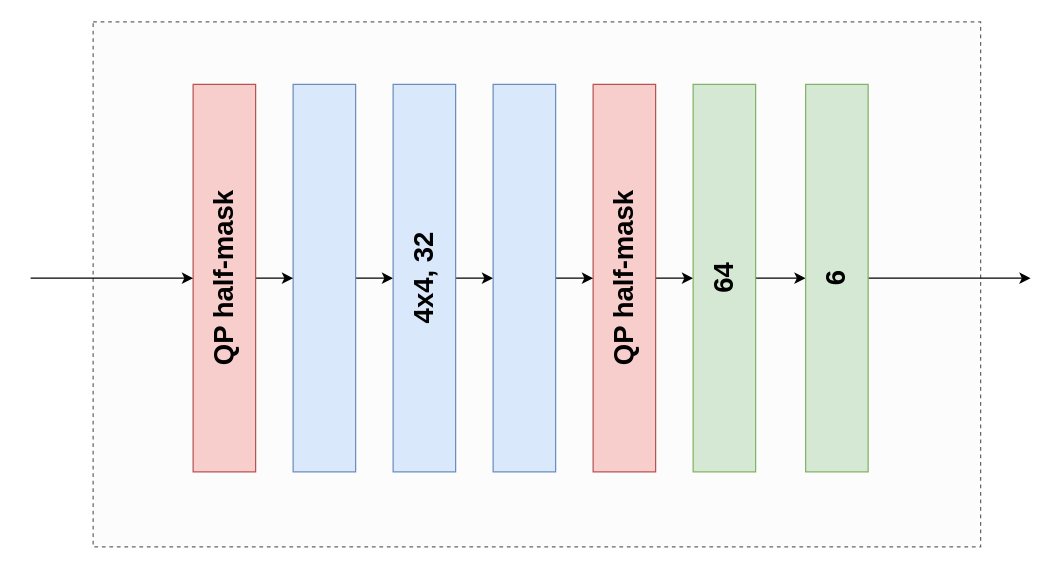
This 1063x569 diagram has some shape labels left out. The box of each missing label's shape, as (x1, y1, x2, y2) in pixels:
2x2, 128: (492, 83, 556, 472)
8x4, 16: (292, 83, 356, 472)
